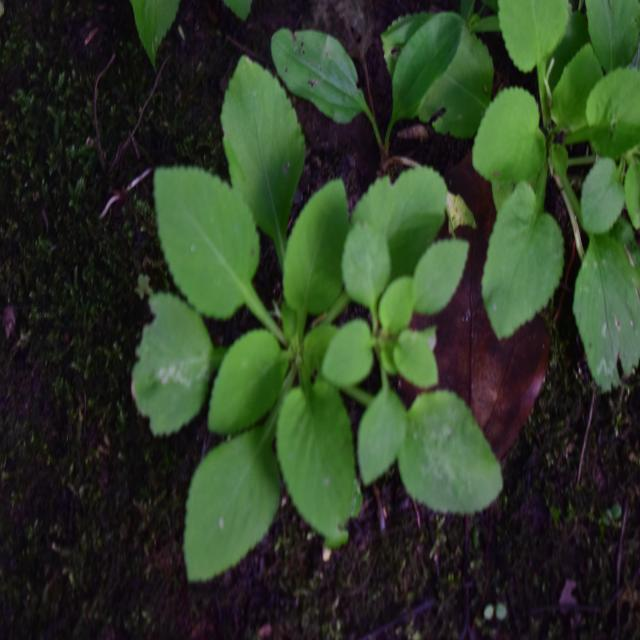Viola: (142, 85, 500, 568), (483, 0, 640, 401)
